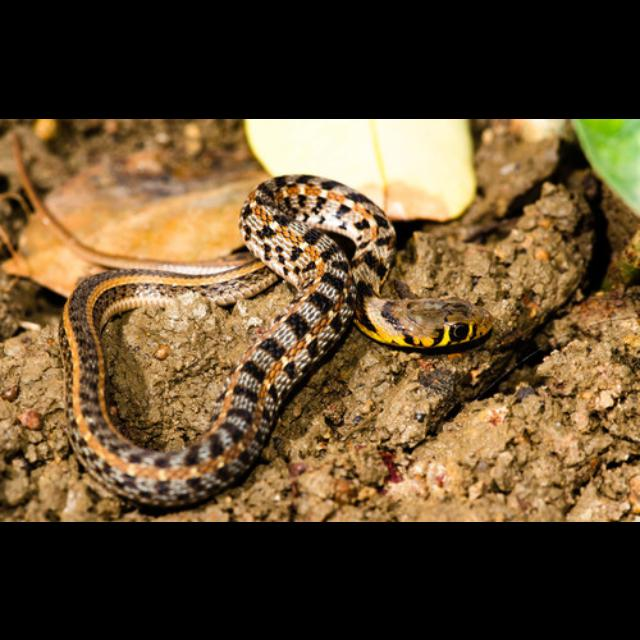snake: (61, 169, 497, 521)
